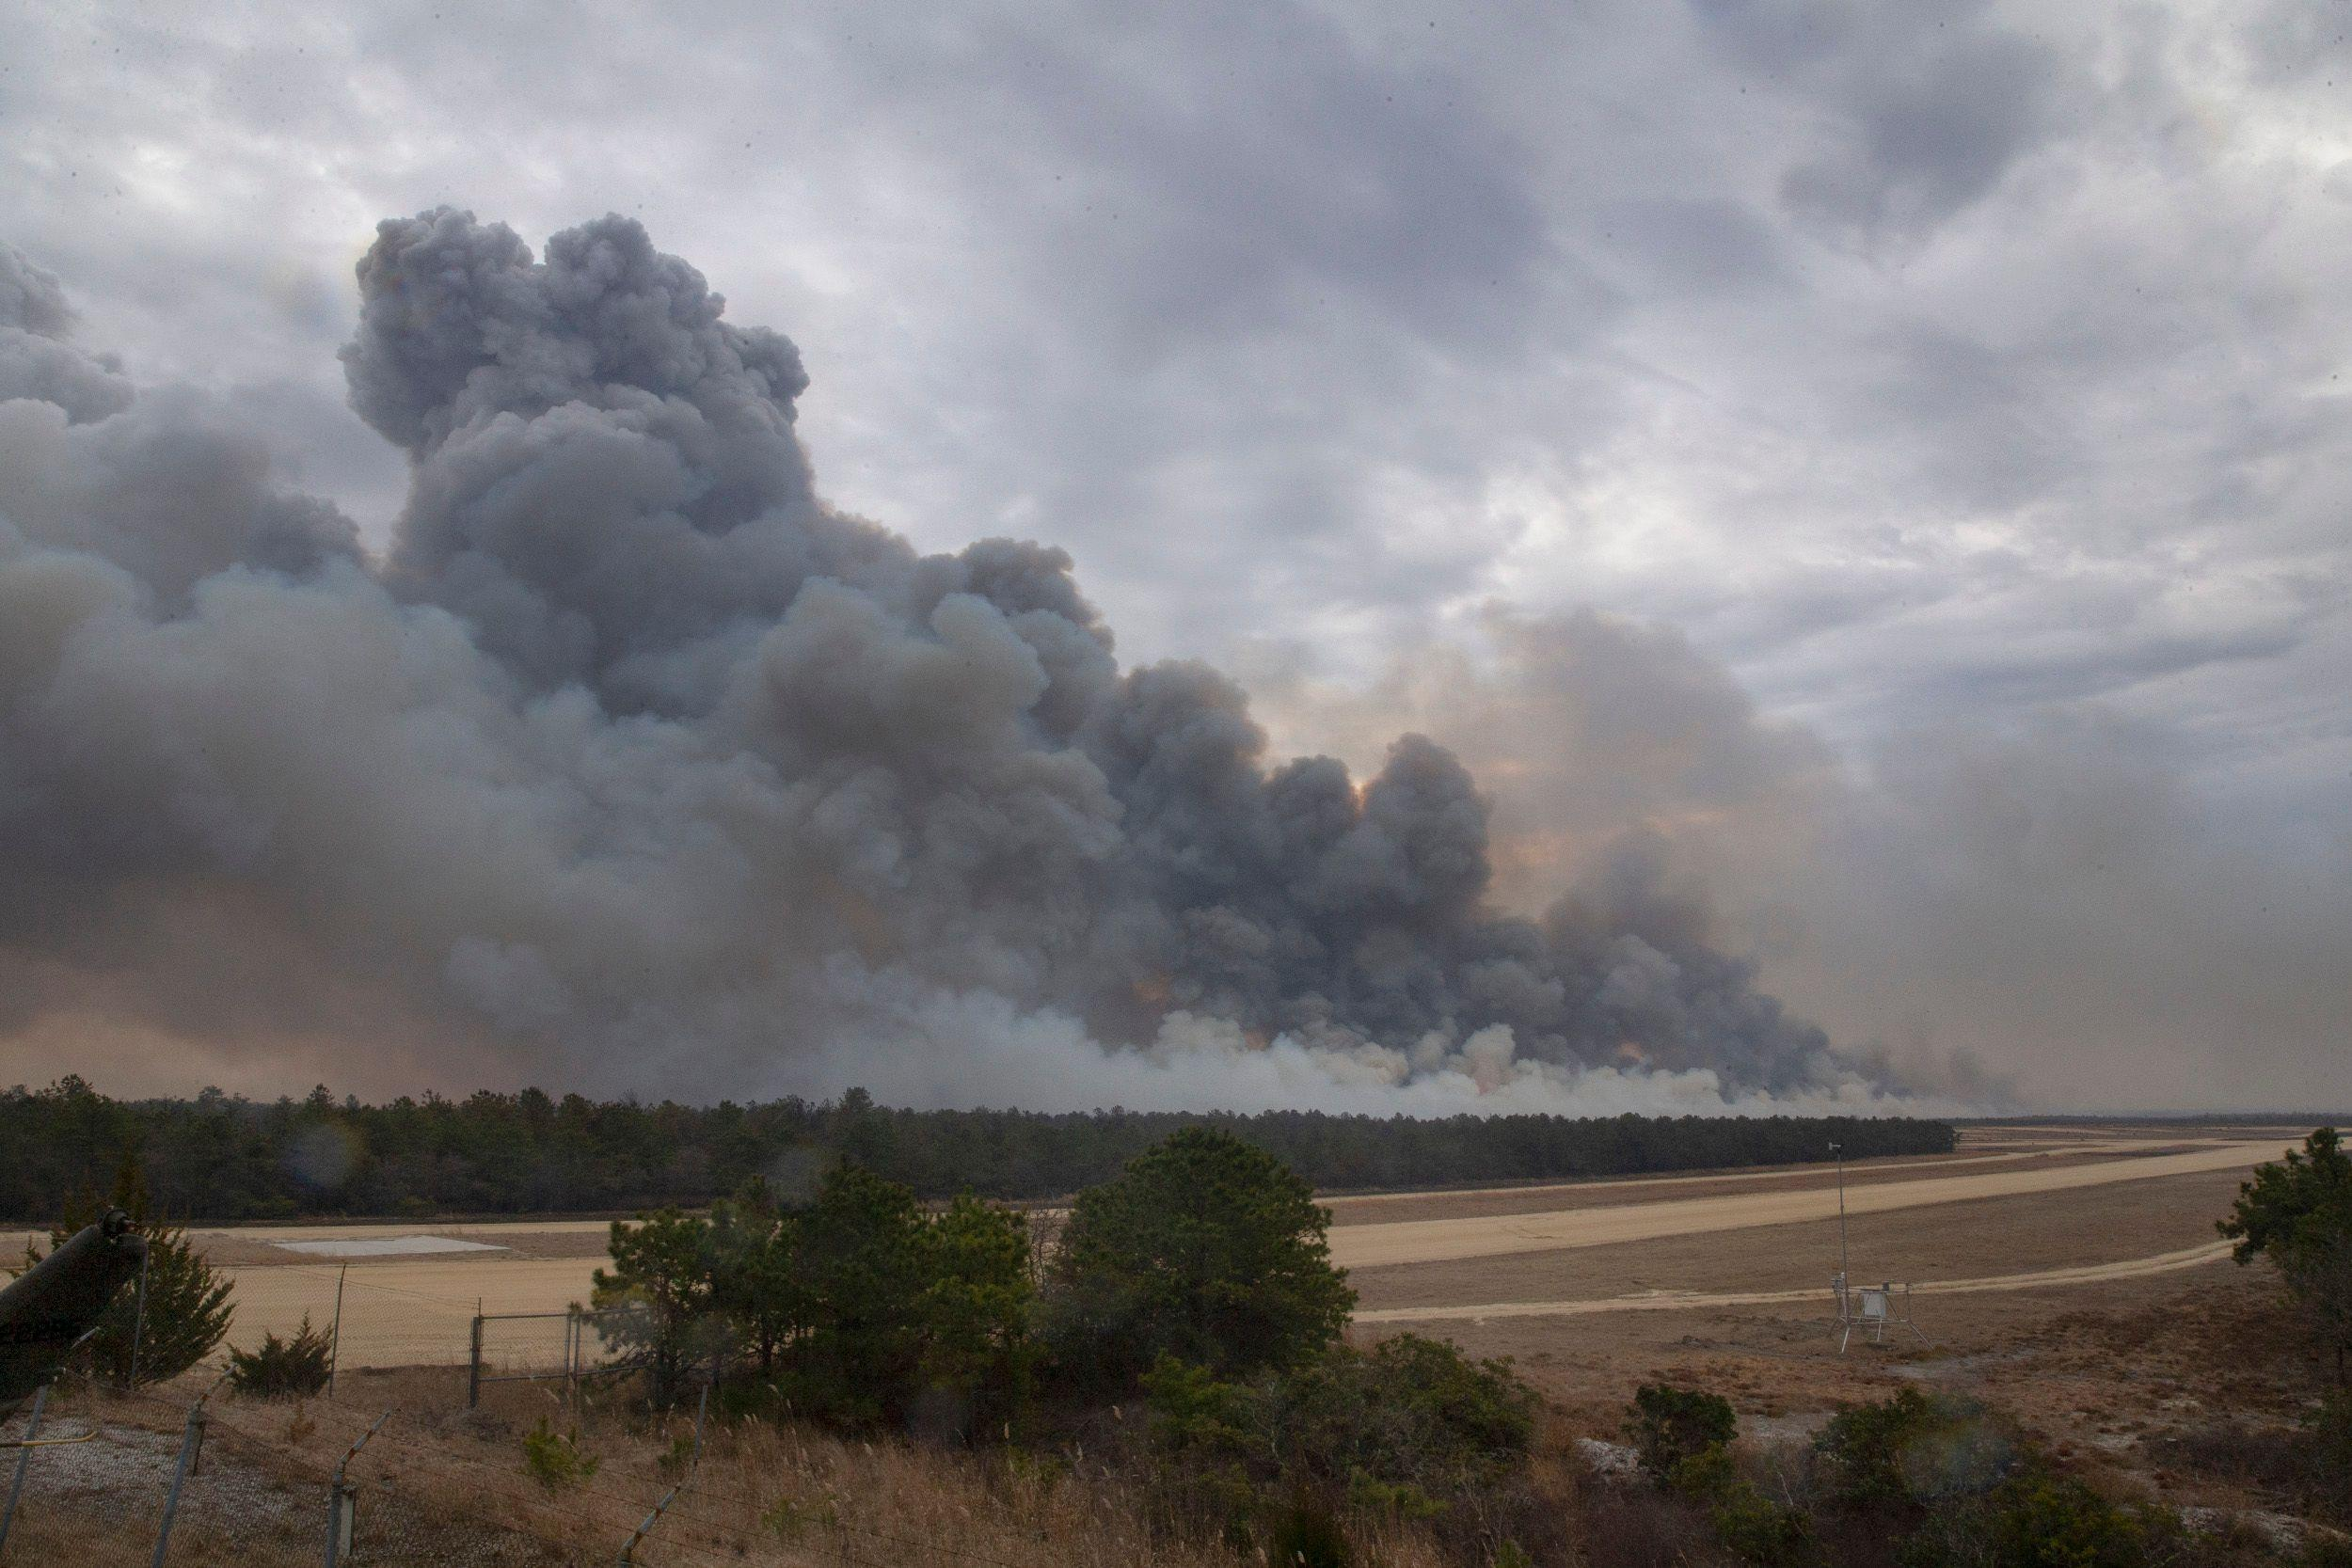smoke: (331, 196, 1939, 1115), (2, 399, 1053, 1115)
